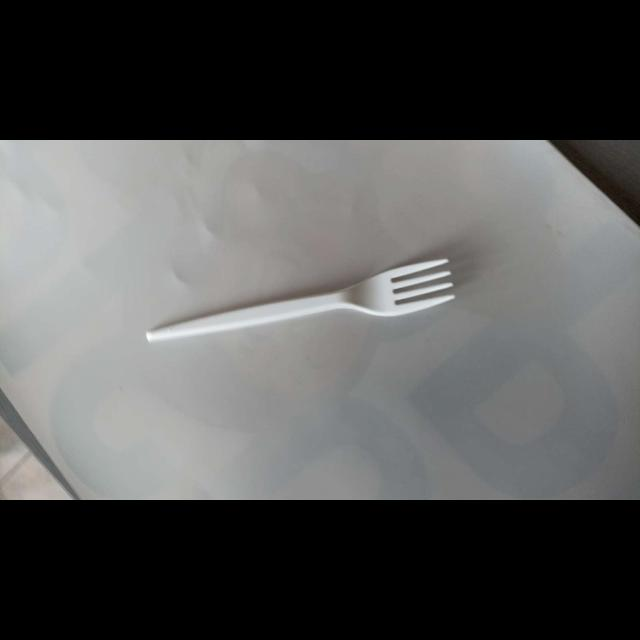plastic_cultery: (144, 257, 456, 353)
